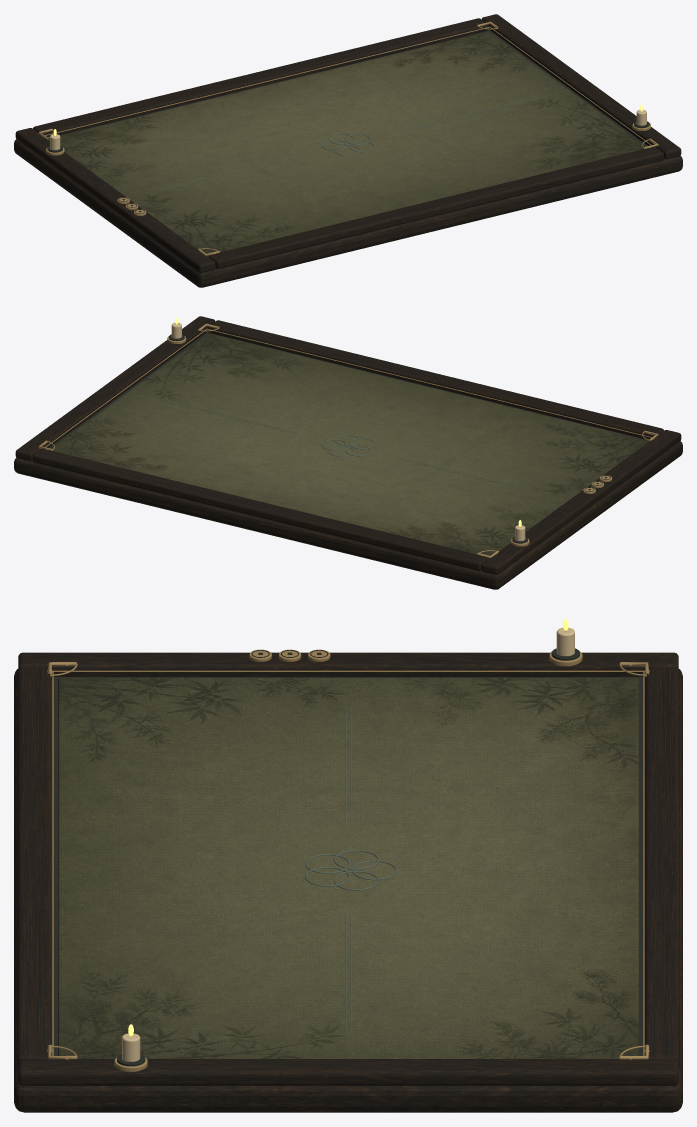
Rendered from table.glb.
3 renders of one model, top to bottom at view 1: azimuth 30°, elevation 25°; view 2: azimuth 150°, elevation 25°; view 3: azimuth 270°, elevation 25°, orthographic. The views are drawn at different scales.
Parts seen in each view (by area): view 1: Playing silk, Walnut table foundation, Walnut long frame, Walnut long frame.001, Walnut side frame, Walnut side frame.001, Recessed inner shadow, Brass inner long hairline.001; view 2: Playing silk, Walnut table foundation, Walnut long frame.001, Walnut long frame, Walnut side frame, Walnut side frame.001, Recessed inner shadow, Brass inner long hairline; view 3: Playing silk, Walnut table foundation, Walnut side frame.001, Walnut side frame, Walnut long frame, Walnut long frame.001, Recessed inner shadow, Brass inner side hairline, Brass inner long hairline, Brass inner long hairline.001.
Boxes of the visible parts, <box> form: Playing silk: <box>47,31,645,256</box>; Walnut table foundation: <box>14,139,682,287</box>; Walnut long frame: <box>208,146,663,268</box>; Walnut long frame.001: <box>33,18,488,137</box>; Walnut side frame: <box>15,128,215,272</box>; Walnut side frame.001: <box>481,14,681,159</box>; Recessed inner shadow: <box>48,30,647,146</box>; Brass inner long hairline.001: <box>45,27,489,135</box>; Playing silk: <box>51,333,649,558</box>; Walnut table foundation: <box>14,441,682,589</box>; Walnut long frame.001: <box>33,448,488,570</box>; Walnut long frame: <box>208,320,663,439</box>; Walnut side frame: <box>481,430,681,574</box>; Walnut side frame.001: <box>15,316,215,461</box>; Recessed inner shadow: <box>49,332,648,448</box>; Brass inner long hairline: <box>207,329,651,437</box>; Playing silk: <box>58,678,638,1058</box>; Walnut table foundation: <box>14,669,682,1112</box>; Walnut side frame.001: <box>18,1059,678,1085</box>; Walnut side frame: <box>18,652,678,676</box>; Walnut long frame: <box>17,668,52,1068</box>; Walnut long frame.001: <box>644,668,679,1068</box>; Recessed inner shadow: <box>53,677,643,1055</box>; Brass inner side hairline: <box>52,670,644,671</box>; Brass inner long hairline: <box>52,671,53,1055</box>; Brass inner long hairline.001: <box>643,671,644,1055</box>.
Bounding box in the file's own units: 12 × 1.09 × 8.
7 materials, 2 textured.
